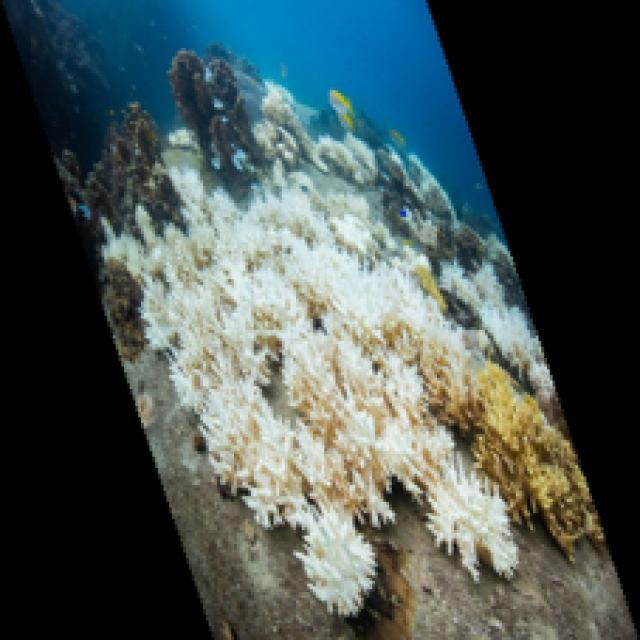Bleached: (101, 172, 525, 616), (437, 262, 560, 402), (427, 462, 525, 585), (263, 82, 321, 166), (319, 136, 384, 187), (254, 121, 302, 167)
Healthy: (474, 364, 611, 562), (416, 269, 453, 314)
